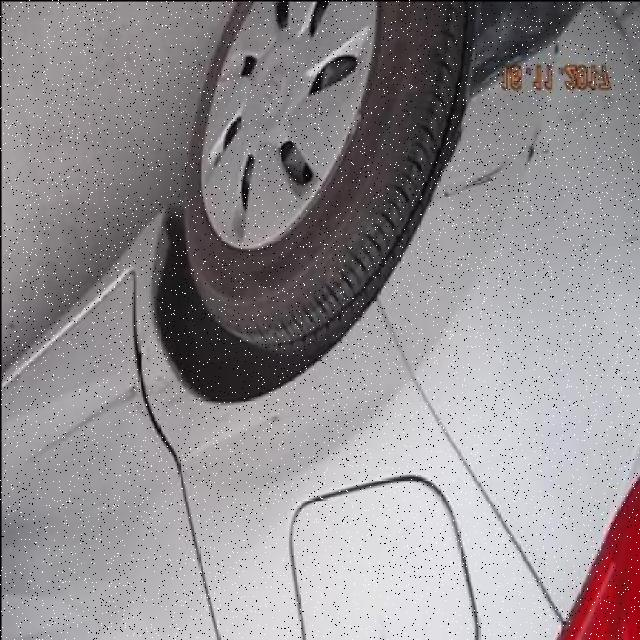damage: (21, 379, 140, 471), (436, 160, 506, 205), (147, 366, 191, 416), (522, 120, 539, 172), (616, 230, 640, 247), (578, 234, 590, 253)
